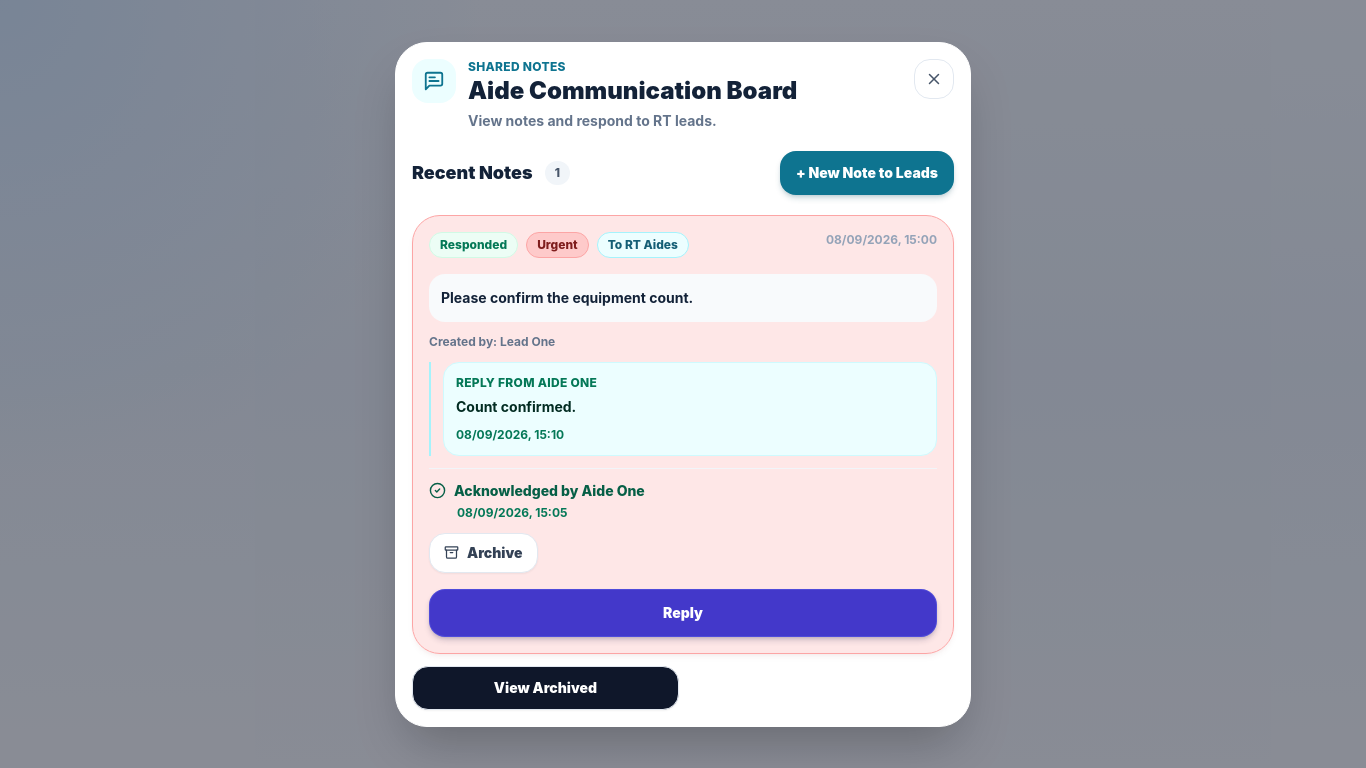
RtAideNotesModal conversation flow › labels existing actions as replies and appends them to the selected conversation
The image size is (1366, 768).
Check: the text "Please confirm the equipment count." is shown, box [429,274,937,322]
Check: the element named "Conversation replies" shows "Reply from Aide One", box [429,362,937,456]
Click the button "Reply".
click(683, 612)  # box [429,588,937,636]
(page scrolled)
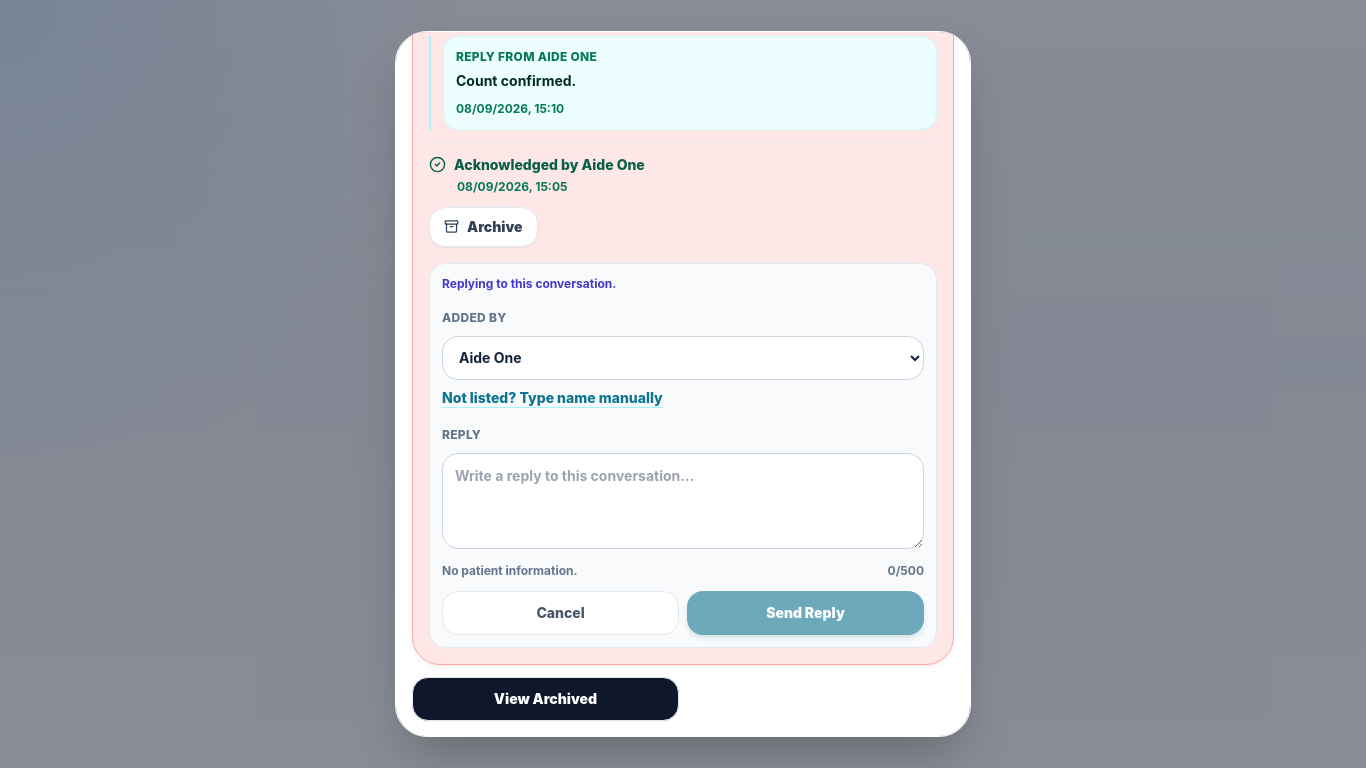
Check: the text "Replying to this conversation." is shown, box [442,276,616,291]
Type "The final count is twelve." into the text box with placeholder "Write a reply to this conversation...".
click(683, 501); type("The final count is twelve.")  # box [442,453,924,549]
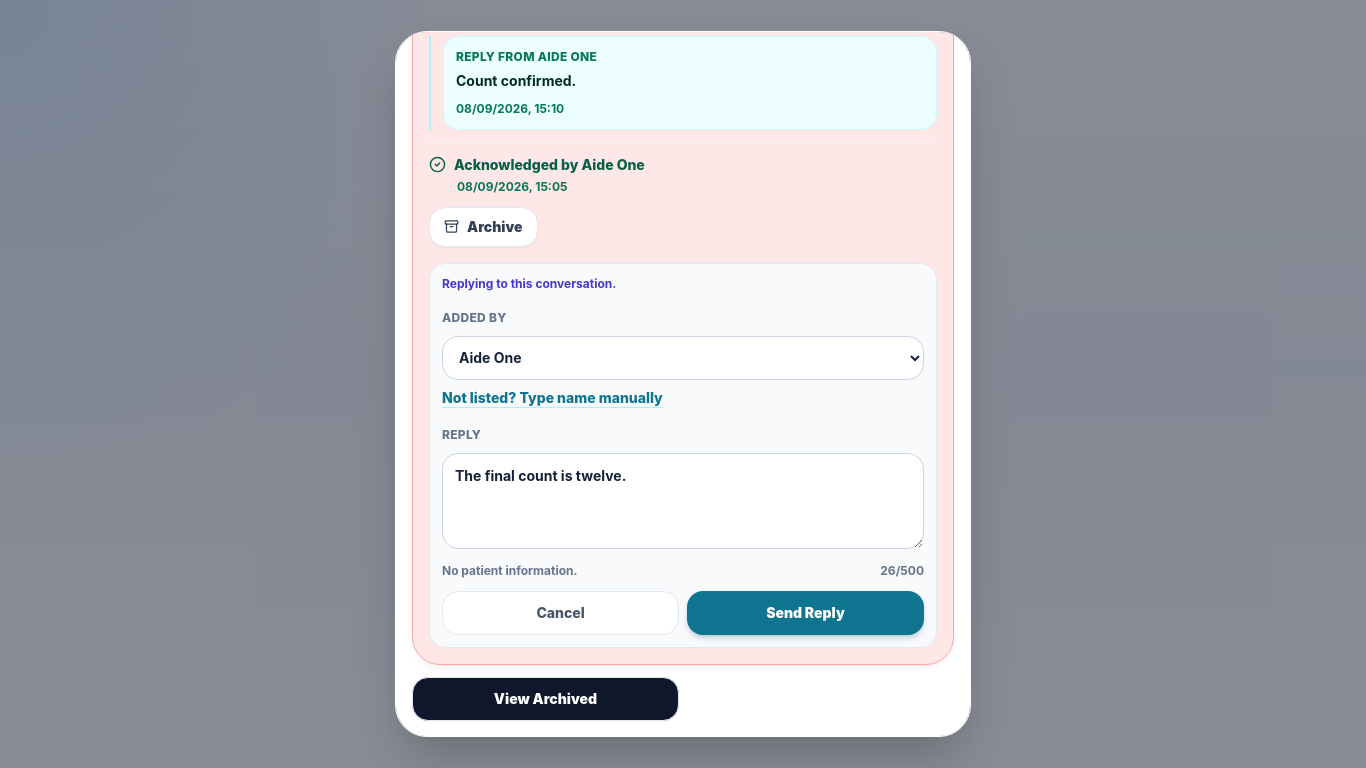
Select "Aide One" in the dropdown labelled "Added by" at coordinates (683, 358), box [442,336,924,380]
Click the button "Send Reply".
click(806, 613)  # box [687,591,924,635]
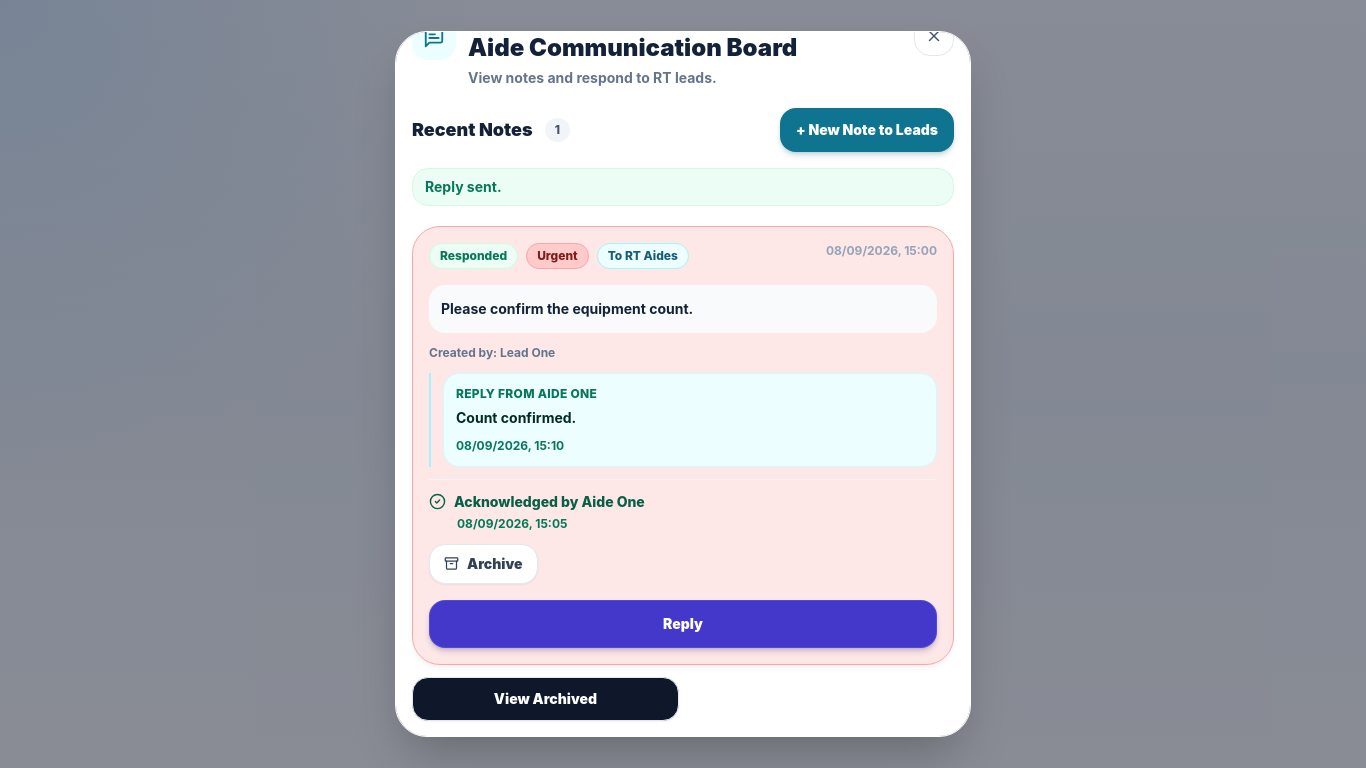
Check: the message reads "Reply sent.", box [425,178,502,195]
